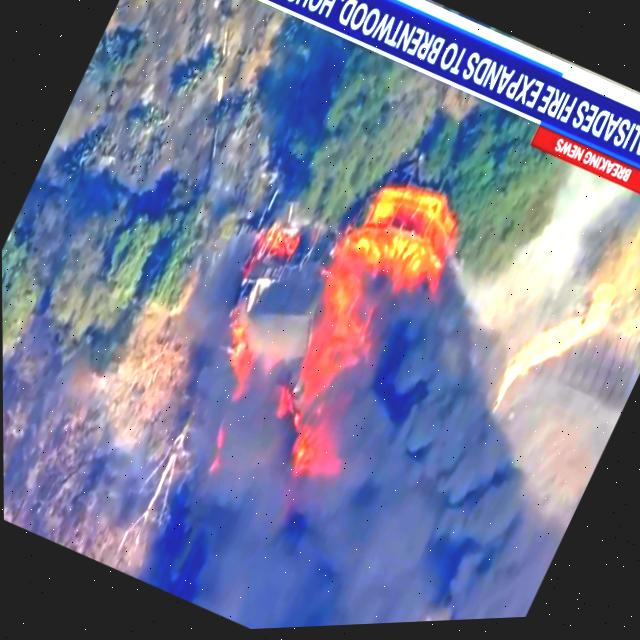Smoke: (253, 323, 587, 631), (145, 400, 429, 635)
